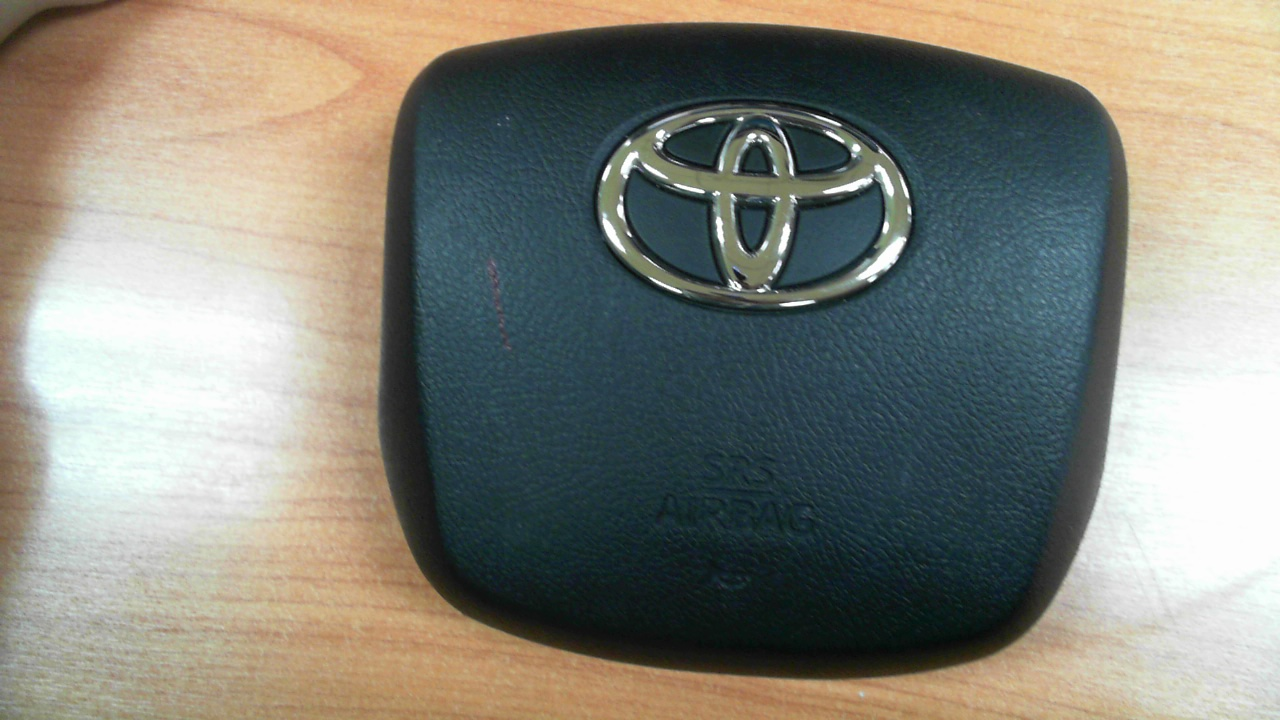Airbag: (377, 21, 1130, 681)
Toyota: (596, 103, 912, 311)
